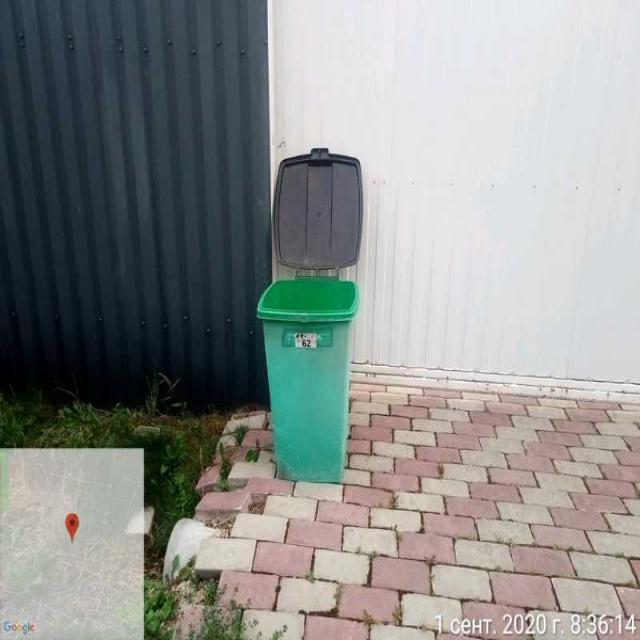Dumpster: (256, 147, 365, 482)
